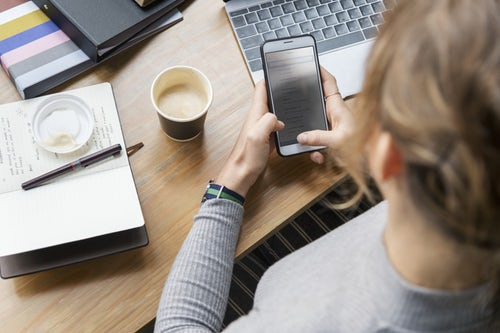phone: (259, 36, 336, 157)
